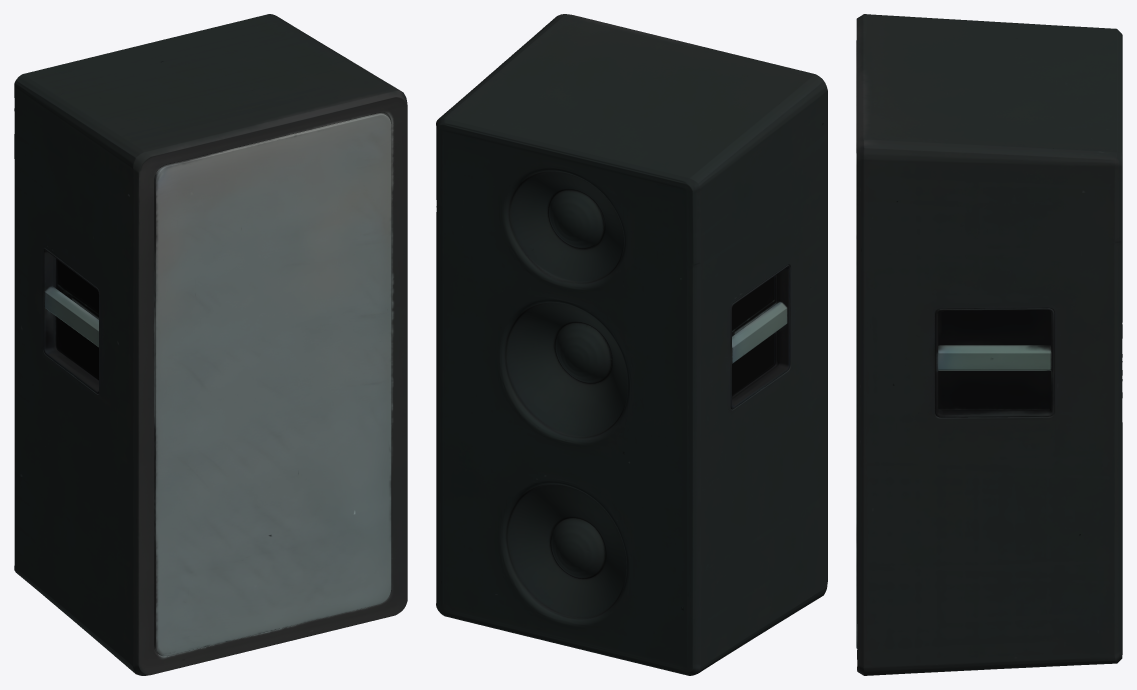
The model's file is speaker_cabinet__hunyuan.glb.
The picture shows the model from 3 angles, left to right: view 1: azimuth 30°, elevation 25°; view 2: azimuth 150°, elevation 25°; view 3: azimuth 270°, elevation 25°; orthographic projection. The views are drawn at different scales.
Parts seen in each view (by area): view 1: material; view 2: material; view 3: material.
Part boxes in pixels (x1,y1,x2,y2): material: (14,14,407,675); material: (436,14,827,675); material: (856,14,1122,675).
Bounding box in the file's own units: 0.5472 × 0.9996 × 0.451.
1 material, 1 textured.
